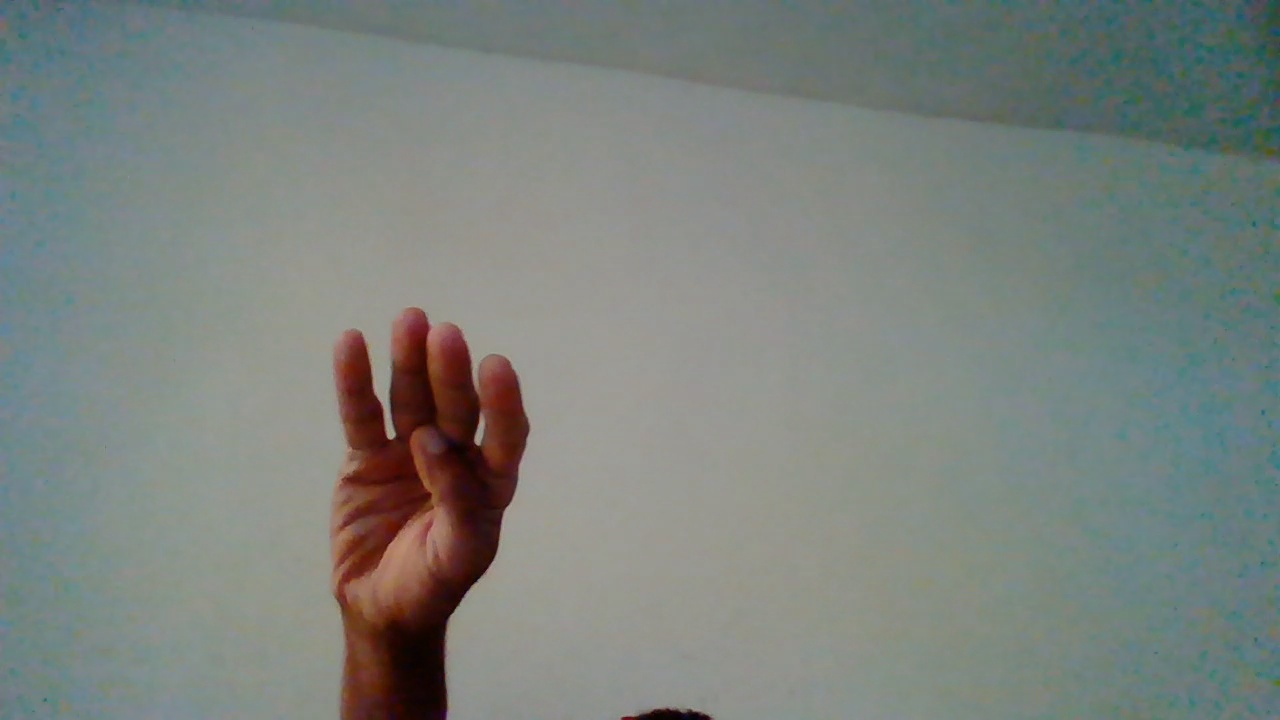me: (326, 305, 526, 703)
